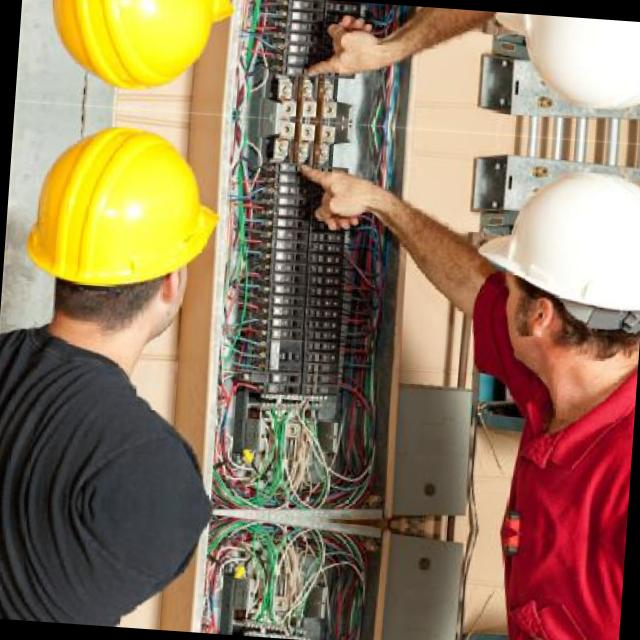helmet: (5, 99, 251, 388), (440, 128, 640, 435), (24, 0, 261, 116), (460, 9, 640, 143)
